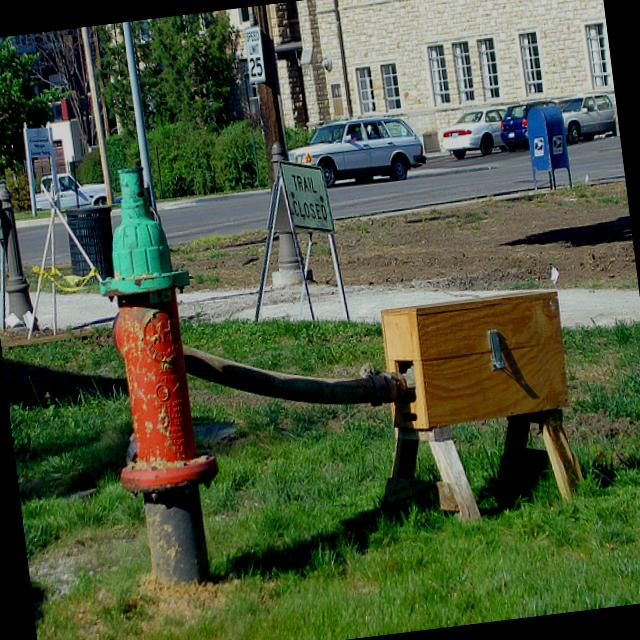Vehicle: (286, 112, 428, 192), (438, 104, 514, 161), (32, 165, 107, 212), (556, 91, 619, 146), (497, 99, 560, 153)
